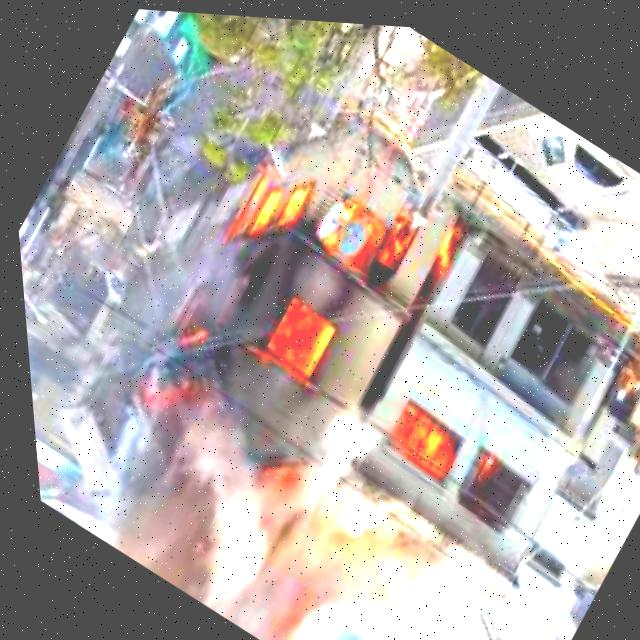Fire: (153, 92, 465, 425), (266, 500, 406, 640), (374, 392, 489, 501)
Smoke: (52, 337, 528, 640)
